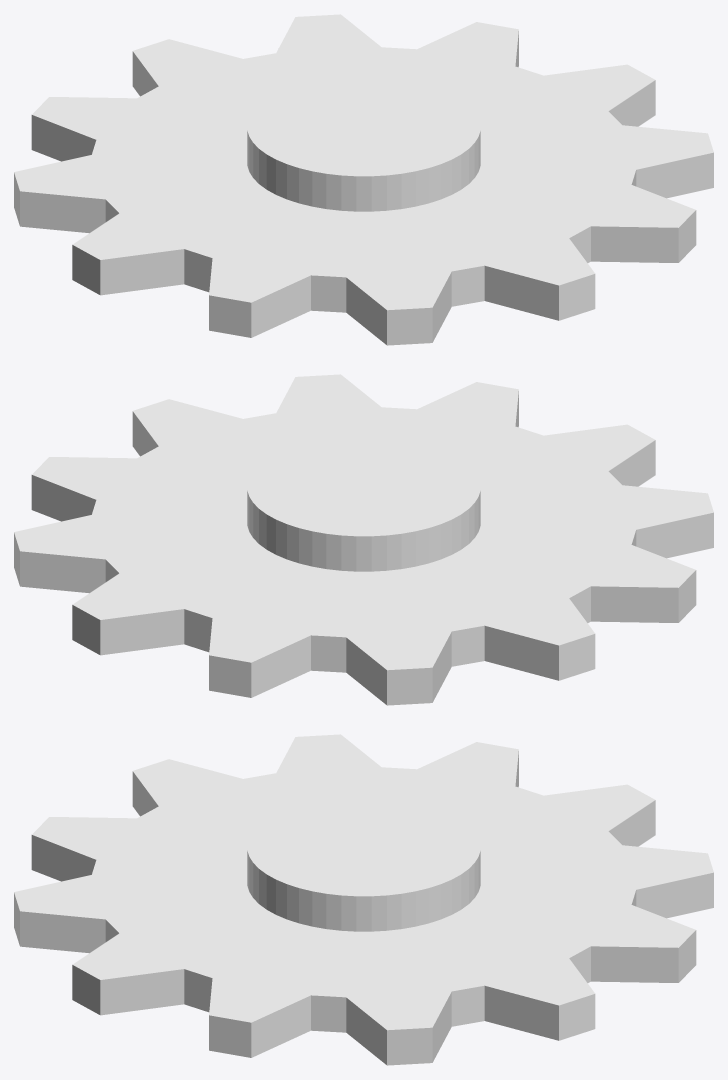
File: wooden_cog.obj
The picture shows the model from 3 angles, top to bottom: view 1: azimuth 30°, elevation 25°; view 2: azimuth 150°, elevation 25°; view 3: azimuth 270°, elevation 25°; orthographic projection.
Parts seen in each view (by area): view 1: Cylinder; view 2: Cylinder; view 3: Cylinder.
Boxes of the visible parts, x1=… form: Cylinder: x1=14, y1=14, x2=713, y2=345; Cylinder: x1=14, y1=374, x2=713, y2=705; Cylinder: x1=14, y1=734, x2=713, y2=1065.
Bounding box in the file's own units: 1.12 × 0.125 × 1.12.
